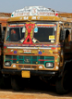truck: (2, 7, 72, 94)
